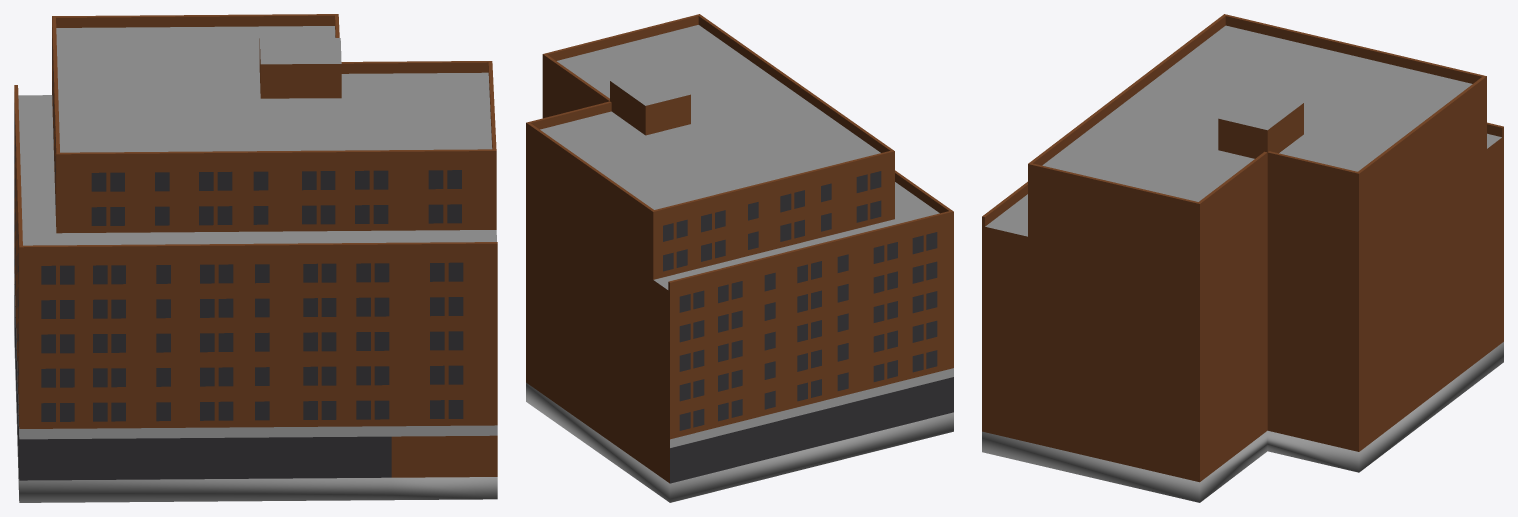
The model's file is broadwaybldg.glb.
The picture shows the model from 3 angles, left to right: view 1: azimuth 30°, elevation 25°; view 2: azimuth 150°, elevation 25°; view 3: azimuth 270°, elevation 25°; orthographic projection. The views are drawn at different scales.
Parts seen in each view (by area): view 1: facade, roof, windows-upper, storefront-window, floor, roof-balcony, ventilation-band, roof-bulkhead; view 2: facade, roof, windows-upper, storefront-window, floor, ventilation-band, roof-balcony, roof-bulkhead; view 3: facade, roof, floor, roof-bulkhead, roof-balcony.
Part boxes in pixels (x1,y1,x2,y2): facade: [14, 14, 497, 477]; roof: [56, 26, 492, 152]; windows-upper: [14, 46, 463, 421]; storefront-window: [14, 284, 391, 480]; floor: [14, 325, 497, 502]; roof-balcony: [18, 95, 496, 245]; ventilation-band: [14, 274, 497, 439]; roof-bulkhead: [260, 38, 341, 64]; facade: [526, 14, 953, 483]; roof: [540, 25, 880, 209]; windows-upper: [663, 171, 937, 430]; storefront-window: [670, 377, 953, 483]; floor: [526, 382, 953, 502]; ventilation-band: [670, 368, 953, 447]; roof-balcony: [654, 182, 939, 289]; roof-bulkhead: [610, 69, 690, 105]; facade: [982, 14, 1503, 482]; roof: [1042, 25, 1472, 201]; floor: [982, 342, 1503, 502]; roof-bulkhead: [1218, 91, 1303, 130]; roof-balcony: [985, 133, 1501, 236].
Bounding box in the file's own units: 44.19 × 30.95 × 45.6.
